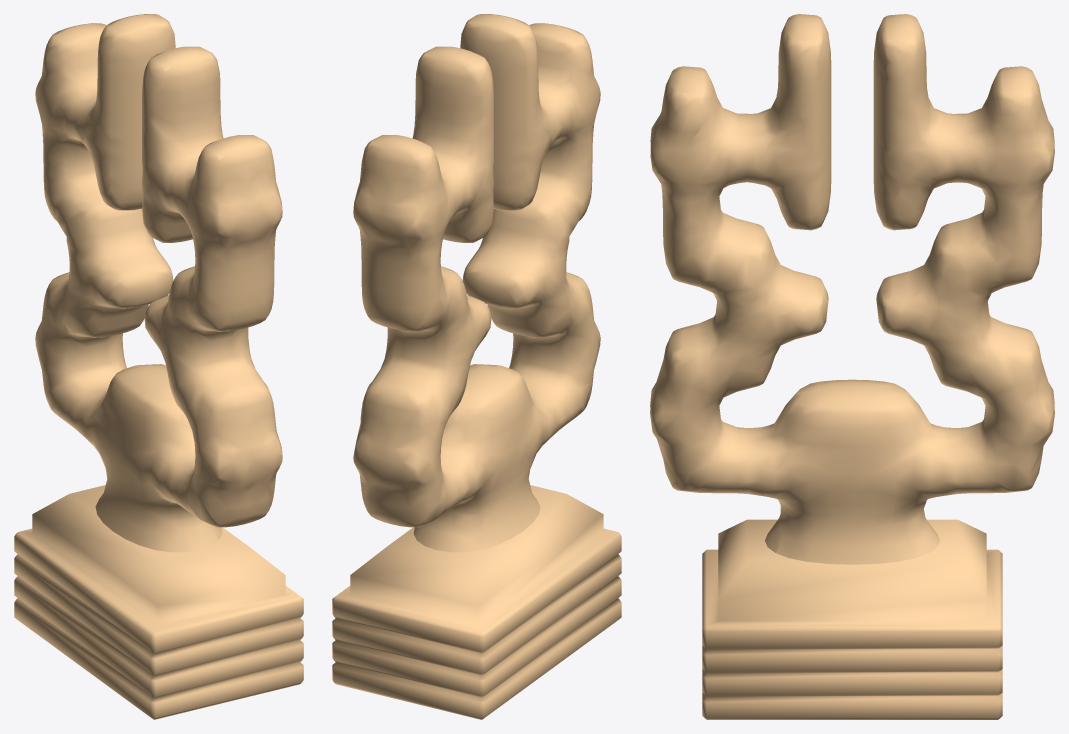
Rendered from mesh90__d239a3ce_7042_cf48_9492_353c45fa69f3__0_lev1.glb.
The picture shows the model from 3 angles, left to right: view 1: azimuth 30°, elevation 25°; view 2: azimuth 150°, elevation 25°; view 3: azimuth 270°, elevation 25°; orthographic projection. The views are drawn at different scales.
Parts seen in each view (by area): view 1: mesh90__d239a3ce_7042_cf48_9492_353c45fa69f3__0_lev1; view 2: mesh90__d239a3ce_7042_cf48_9492_353c45fa69f3__0_lev1; view 3: mesh90__d239a3ce_7042_cf48_9492_353c45fa69f3__0_lev1.
Boxes of the visible parts, box(x1,y1,x2,y2) form: mesh90__d239a3ce_7042_cf48_9492_353c45fa69f3__0_lev1: box(14, 14, 303, 719); mesh90__d239a3ce_7042_cf48_9492_353c45fa69f3__0_lev1: box(332, 14, 621, 719); mesh90__d239a3ce_7042_cf48_9492_353c45fa69f3__0_lev1: box(650, 14, 1054, 719).
Size of the model in its own units: 0.7528 by 2.9 by 1.61.
